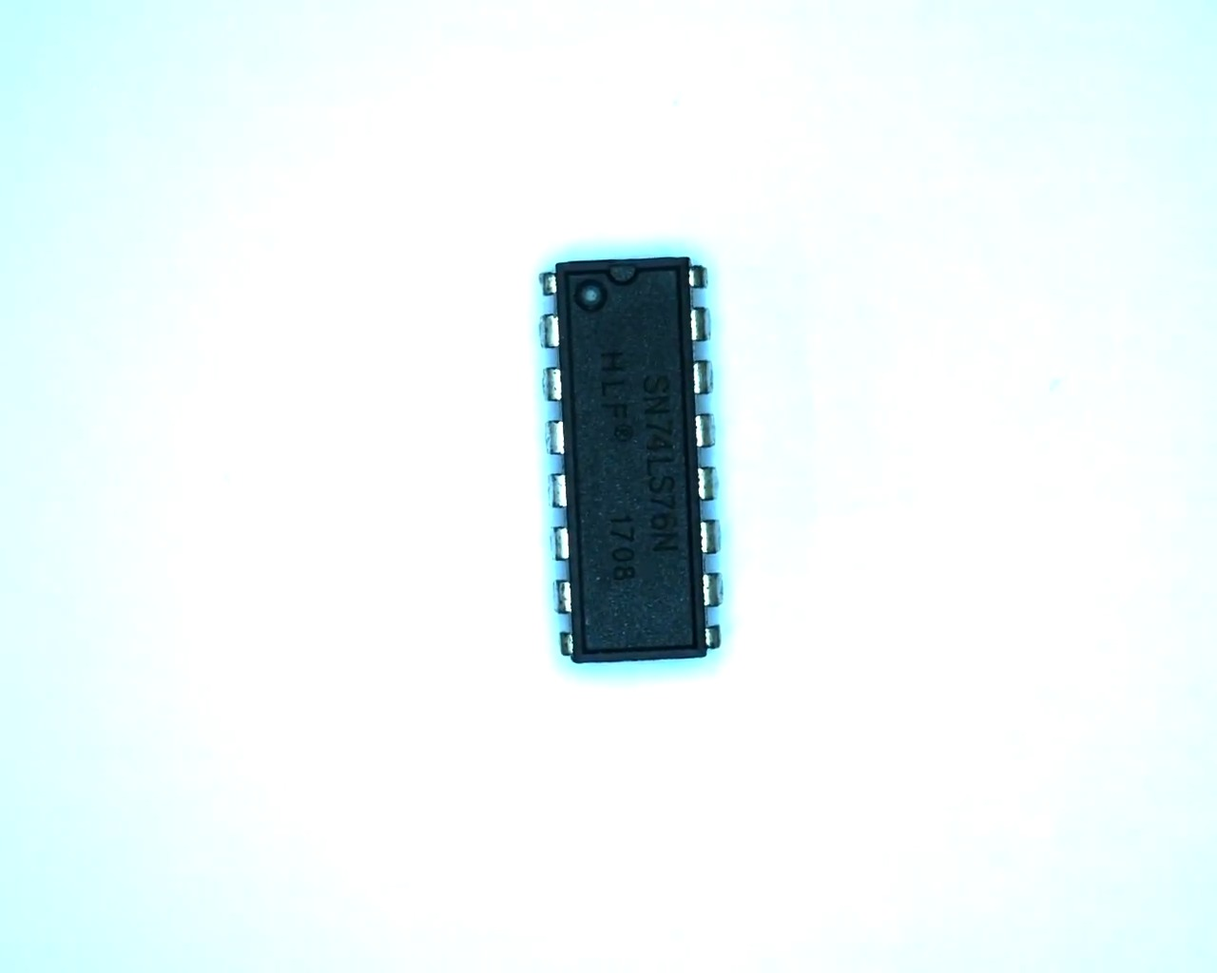IC: (534, 251, 731, 671)
notch: (602, 255, 644, 292)
